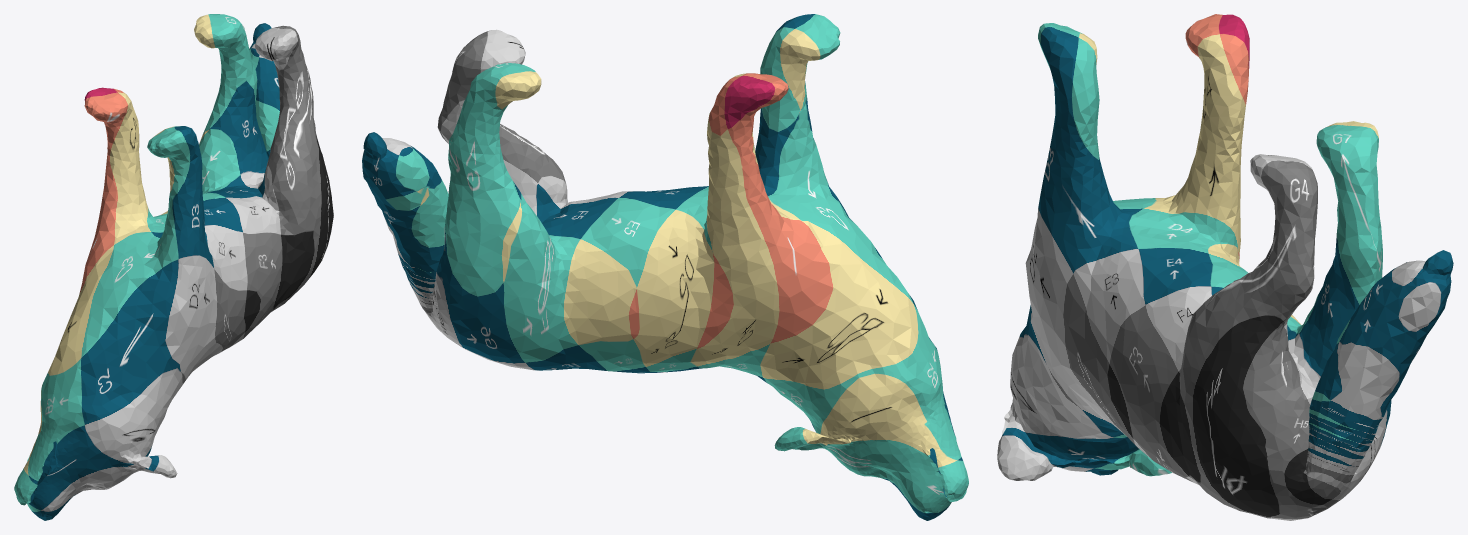
Rendered from hippo_06-wolf_03.obj.
The picture shows the model from 3 angles, left to right: view 1: azimuth 30°, elevation 25°; view 2: azimuth 150°, elevation 25°; view 3: azimuth 270°, elevation 25°; orthographic projection. The views are drawn at different scales.
Parts seen in each view (by area): view 1: hippo_06-wolf_03_export; view 2: hippo_06-wolf_03_export; view 3: hippo_06-wolf_03_export.
Part boxes in pixels (x1=…): hippo_06-wolf_03_export: x1=14, y1=14, x2=333, y2=520; hippo_06-wolf_03_export: x1=362, y1=14, x2=968, y2=520; hippo_06-wolf_03_export: x1=997, y1=14, x2=1453, y2=520.
Size of the model in its own units: 0.7472 by 0.7014 by 0.551.
